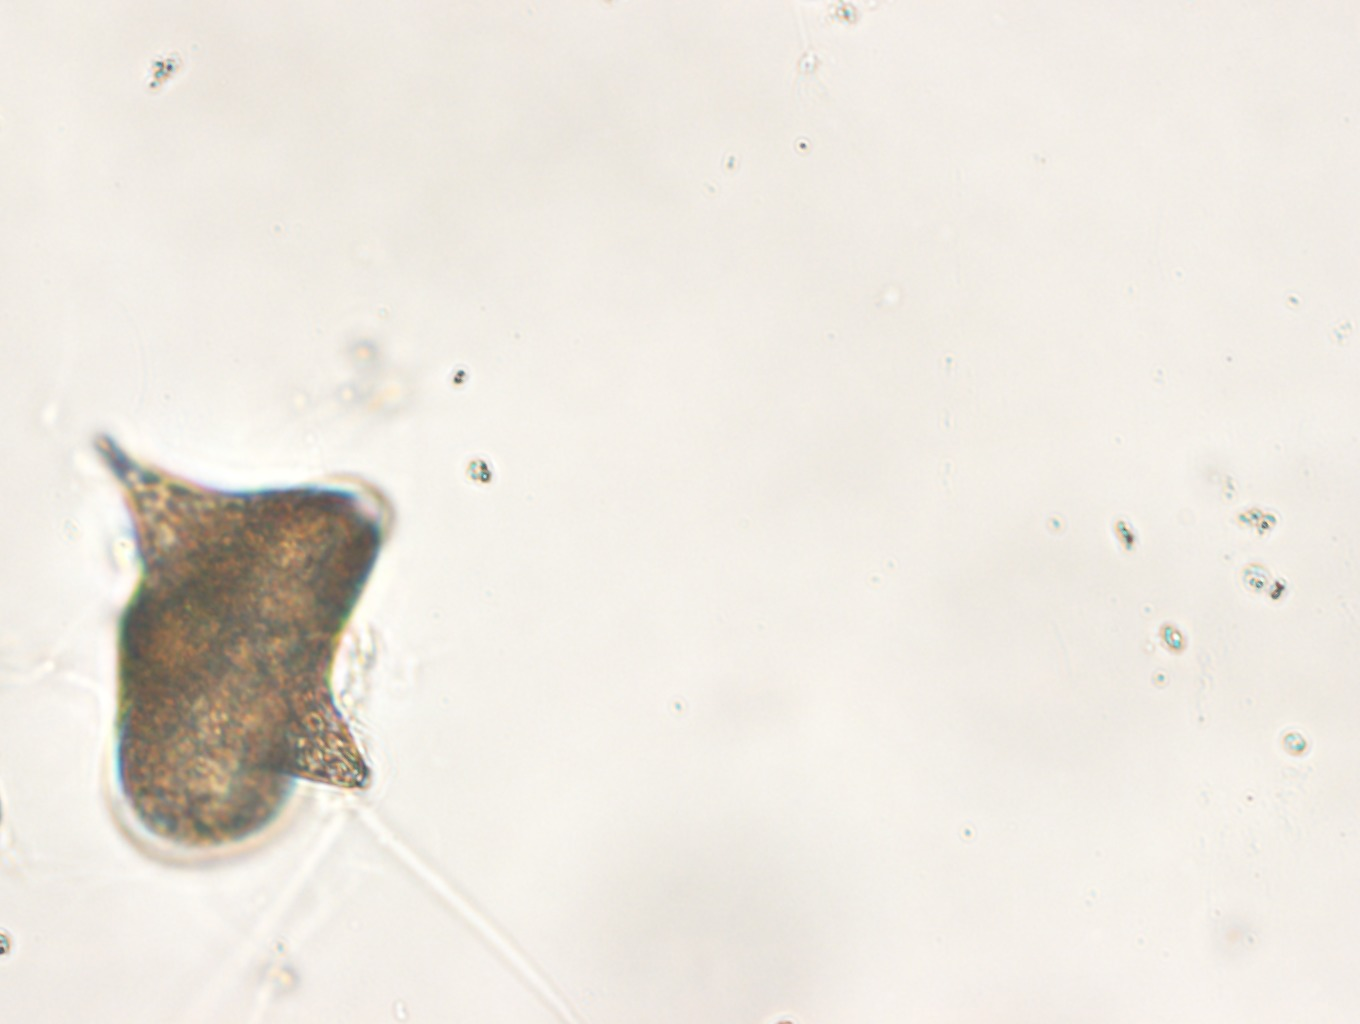protoperidinium: (86, 431, 399, 862)
